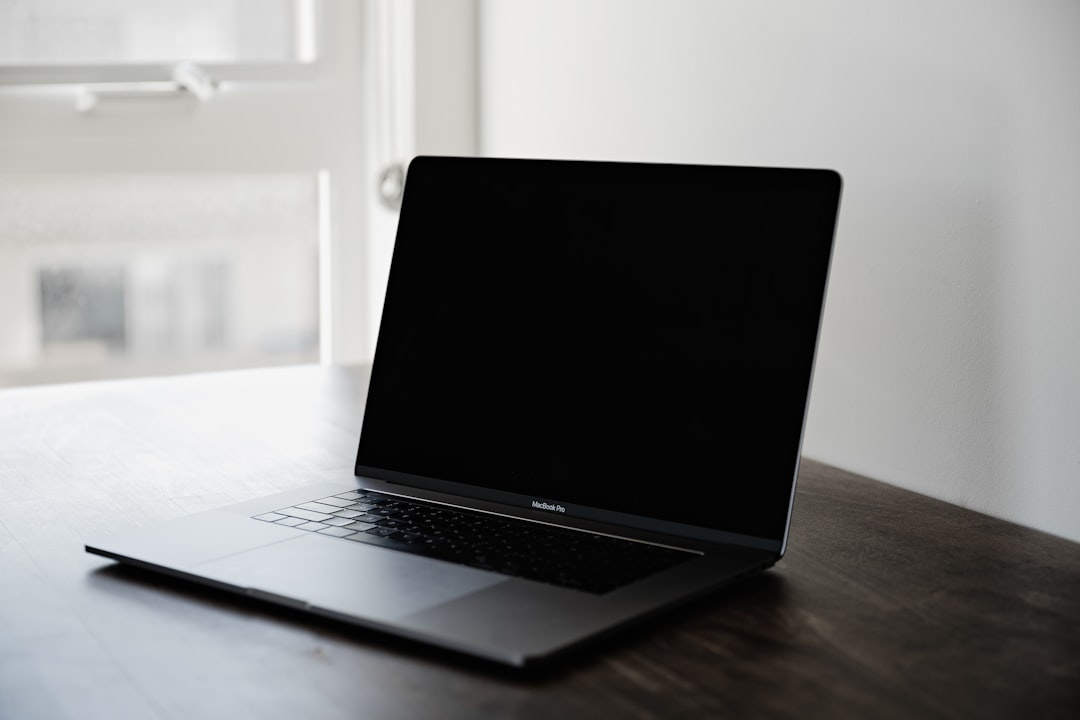laptop: (25, 109, 889, 695)
